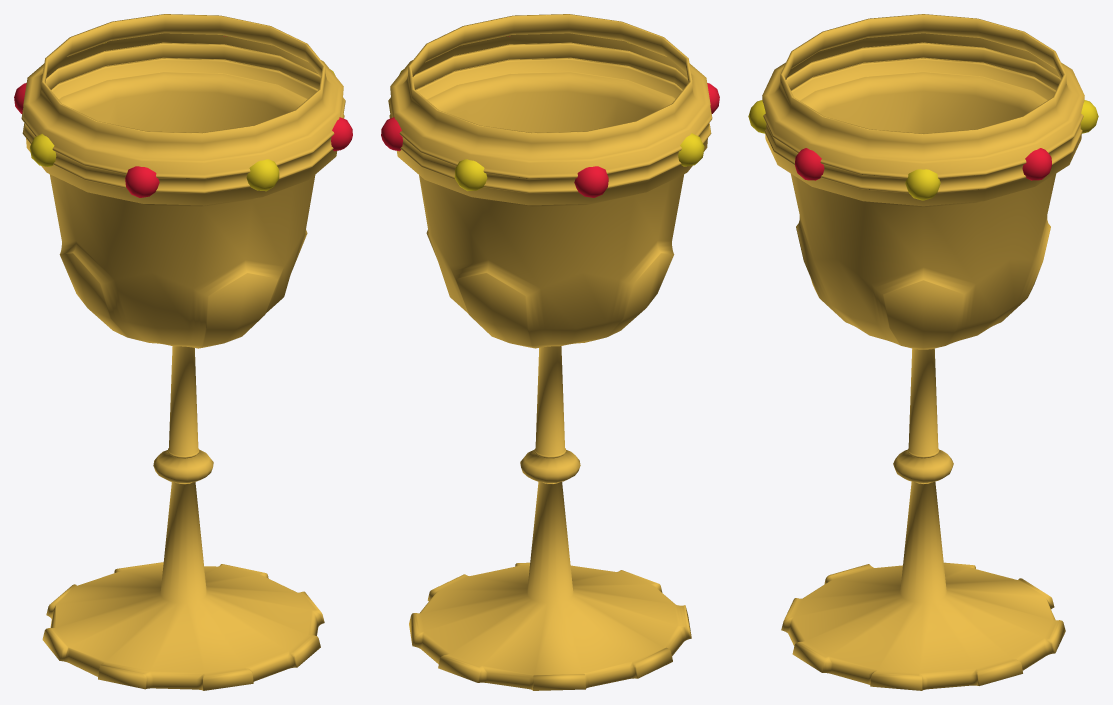
File: GoldenChalice.fbx
3 views of the same model, side by side, from view 1: azimuth 30°, elevation 25°; view 2: azimuth 150°, elevation 25°; view 3: azimuth 270°, elevation 25° (orthographic).
Parts seen in each view (by area): view 1: chalice; view 2: chalice; view 3: chalice.
Boxes of the visible parts, x1=… form: chalice: x1=14, y1=14, x2=352, y2=690; chalice: x1=381, y1=14, x2=719, y2=690; chalice: x1=748, y1=14, x2=1098, y2=690.
Size of the model in its own units: 2.45 by 4.3 by 2.45.
